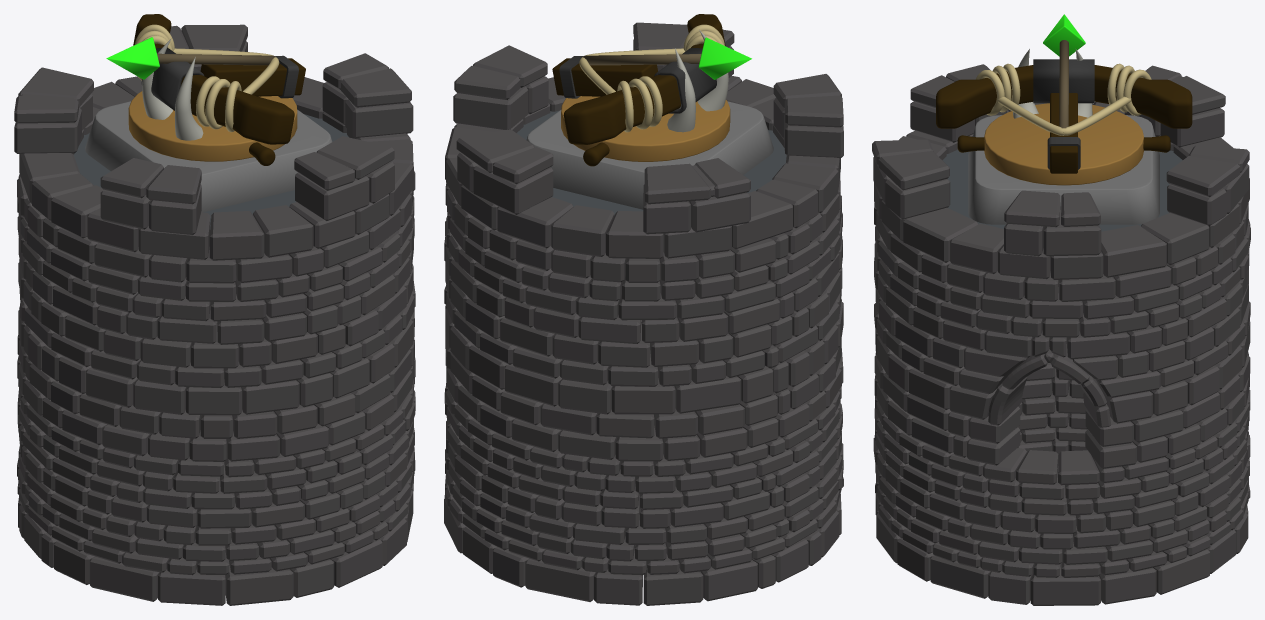
File: Poison Tower(1).fbx
3 views of the same model, side by side, from view 1: azimuth 30°, elevation 25°; view 2: azimuth 150°, elevation 25°; view 3: azimuth 270°, elevation 25° (orthographic). The views are drawn at different scales.
Parts seen in each view (by area): view 1: Tower, Base.2, Base, Cube.003, Rope, Base tower, NurbsPath, Cube.001, Cube.004, Arrow Head, Shaft, NurbsPath.001 (+1 smaller); view 2: Tower, Base.2, Base, Cube.003, Base tower, Rope, Cube.001, NurbsPath, Cube.004, Arrow Head, Shaft, NurbsPath.001 (+1 smaller); view 3: Tower, Base, Base.2, Cube.003, Rope, Base tower, Cube.004, Cube.001, NurbsPath.001, Arrow Head, Shaft, Stick (+1 smaller).
Part boxes in pixels (x1=…): Tower: x1=14, y1=24, x2=415, y2=605; Base.2: x1=85, y1=101, x2=332, y2=212; Base: x1=128, y1=91, x2=297, y2=161; Cube.003: x1=133, y1=14, x2=294, y2=144; Rope: x1=135, y1=24, x2=241, y2=132; Base tower: x1=74, y1=114, x2=348, y2=229; NurbsPath: x1=142, y1=38, x2=203, y2=140; Cube.001: x1=200, y1=58, x2=305, y2=96; Cube.004: x1=141, y1=48, x2=204, y2=110; Arrow Head: x1=106, y1=37, x2=159, y2=79; Shaft: x1=157, y1=53, x2=275, y2=65; NurbsPath.001: x1=173, y1=48, x2=279, y2=94; Tower: x1=444, y1=22, x2=843, y2=605; Base.2: x1=526, y1=101, x2=773, y2=209; Base: x1=561, y1=96, x2=730, y2=161; Cube.003: x1=563, y1=14, x2=725, y2=144; Base tower: x1=517, y1=111, x2=786, y2=215; Rope: x1=617, y1=24, x2=724, y2=132; Cube.001: x1=552, y1=58, x2=657, y2=96; NurbsPath: x1=667, y1=30, x2=728, y2=132; Cube.004: x1=654, y1=48, x2=716, y2=113; Arrow Head: x1=698, y1=37, x2=751, y2=79; Shaft: x1=583, y1=54, x2=701, y2=65; NurbsPath.001: x1=579, y1=48, x2=684, y2=94; Tower: x1=872, y1=64, x2=1250, y2=605; Base: x1=984, y1=103, x2=1143, y2=185; Base.2: x1=968, y1=115, x2=1159, y2=224; Cube.003: x1=936, y1=65, x2=1192, y2=128; Rope: x1=975, y1=63, x2=1151, y2=115; Base tower: x1=942, y1=149, x2=1182, y2=231; Cube.004: x1=1033, y1=59, x2=1094, y2=103; Cube.001: x1=1050, y1=93, x2=1077, y2=173; NurbsPath.001: x1=997, y1=96, x2=1131, y2=135; Arrow Head: x1=1043, y1=14, x2=1085, y2=56; Shaft: x1=1059, y1=40, x2=1068, y2=128; Stick: x1=957, y1=135, x2=1170, y2=152.
Bounding box in the file's own units: 916 × 1264 × 917.
